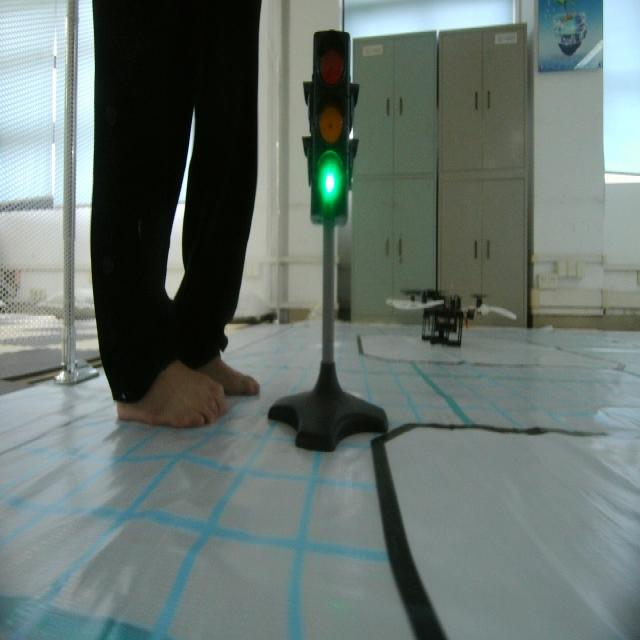green: (303, 23, 359, 226)
